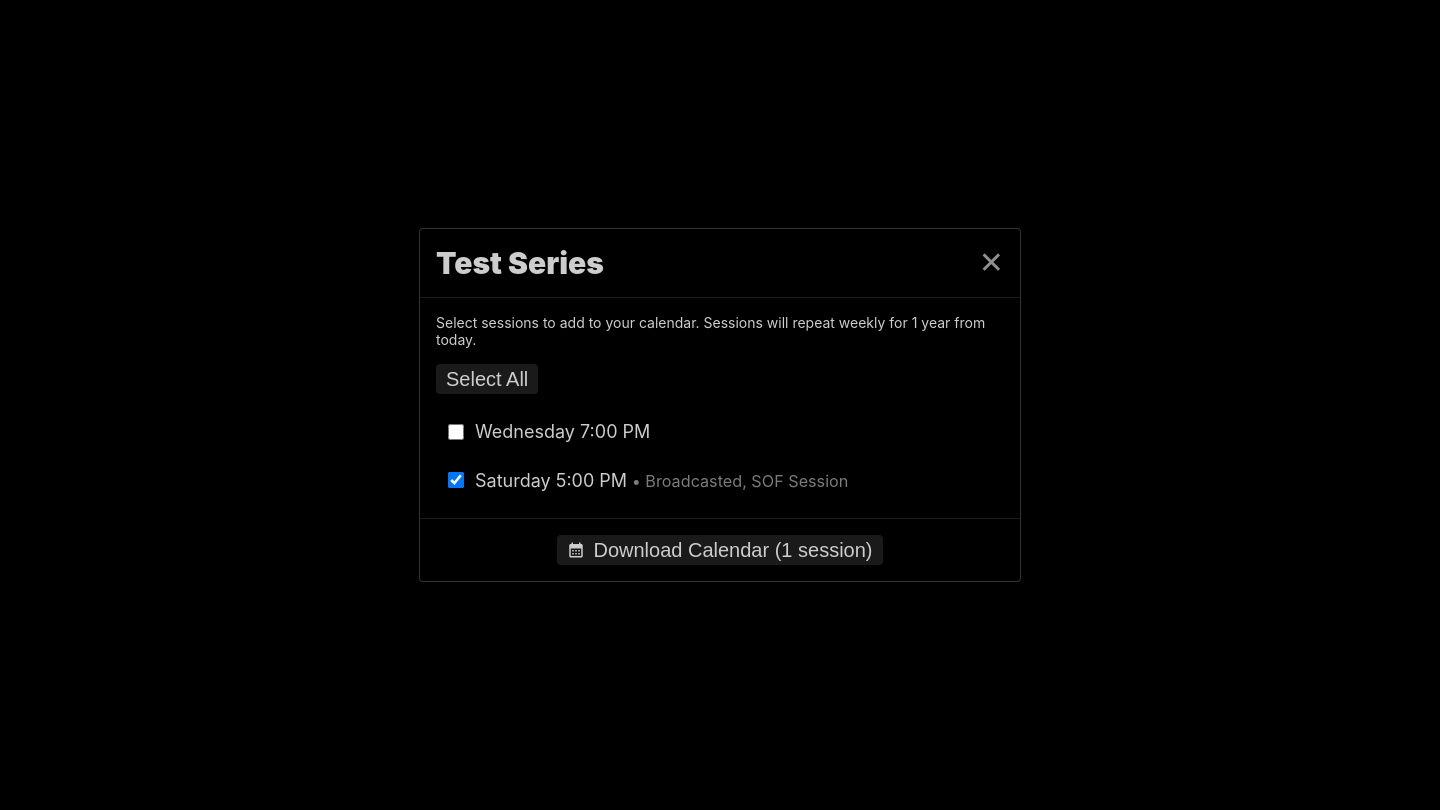
Test: CalendarModal interactions › Deselect All unchecks every session
Click the button "Select All". click: (487, 379)
box: [436,364,538,394]
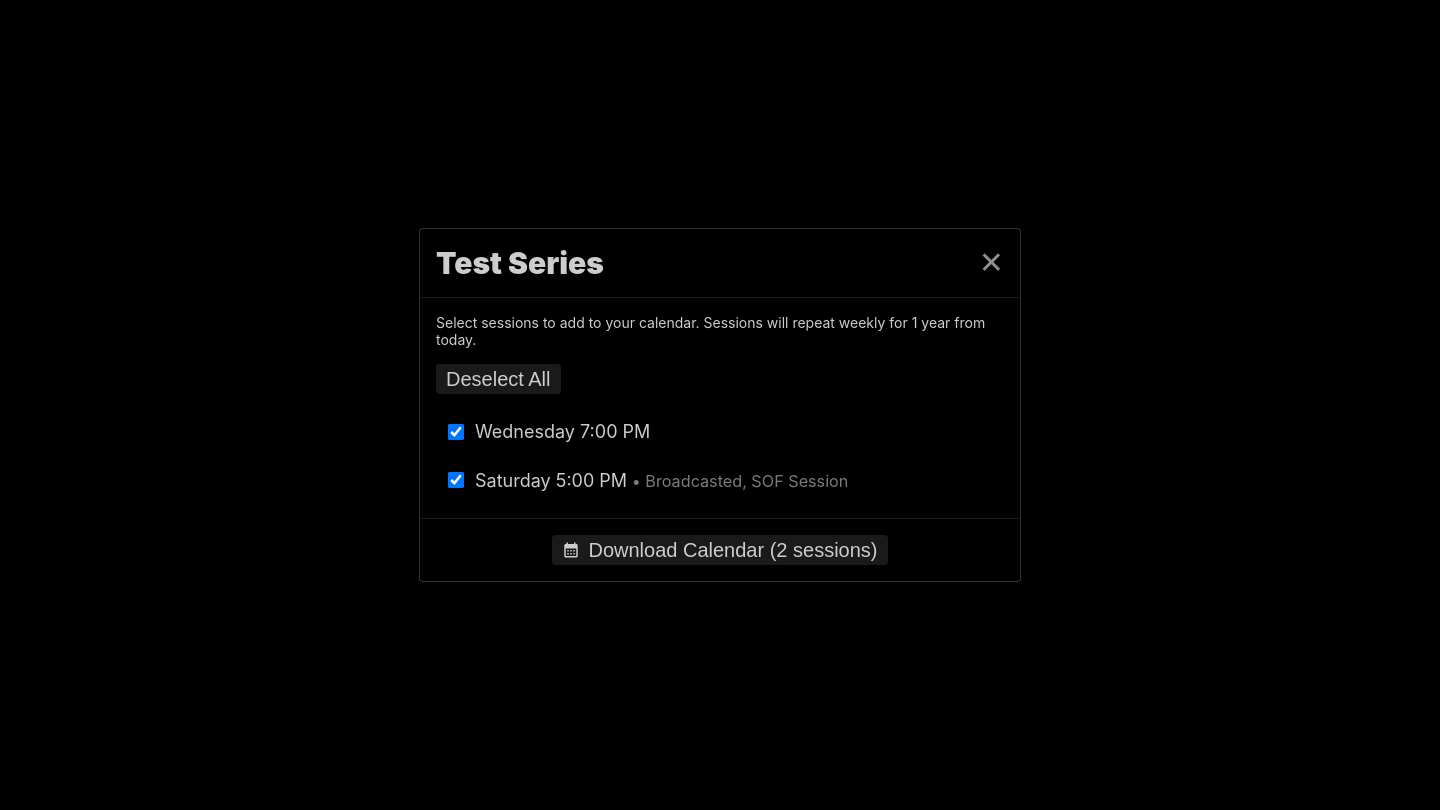
Click the button "Deselect All". click: (498, 379)
box: [436,364,560,394]
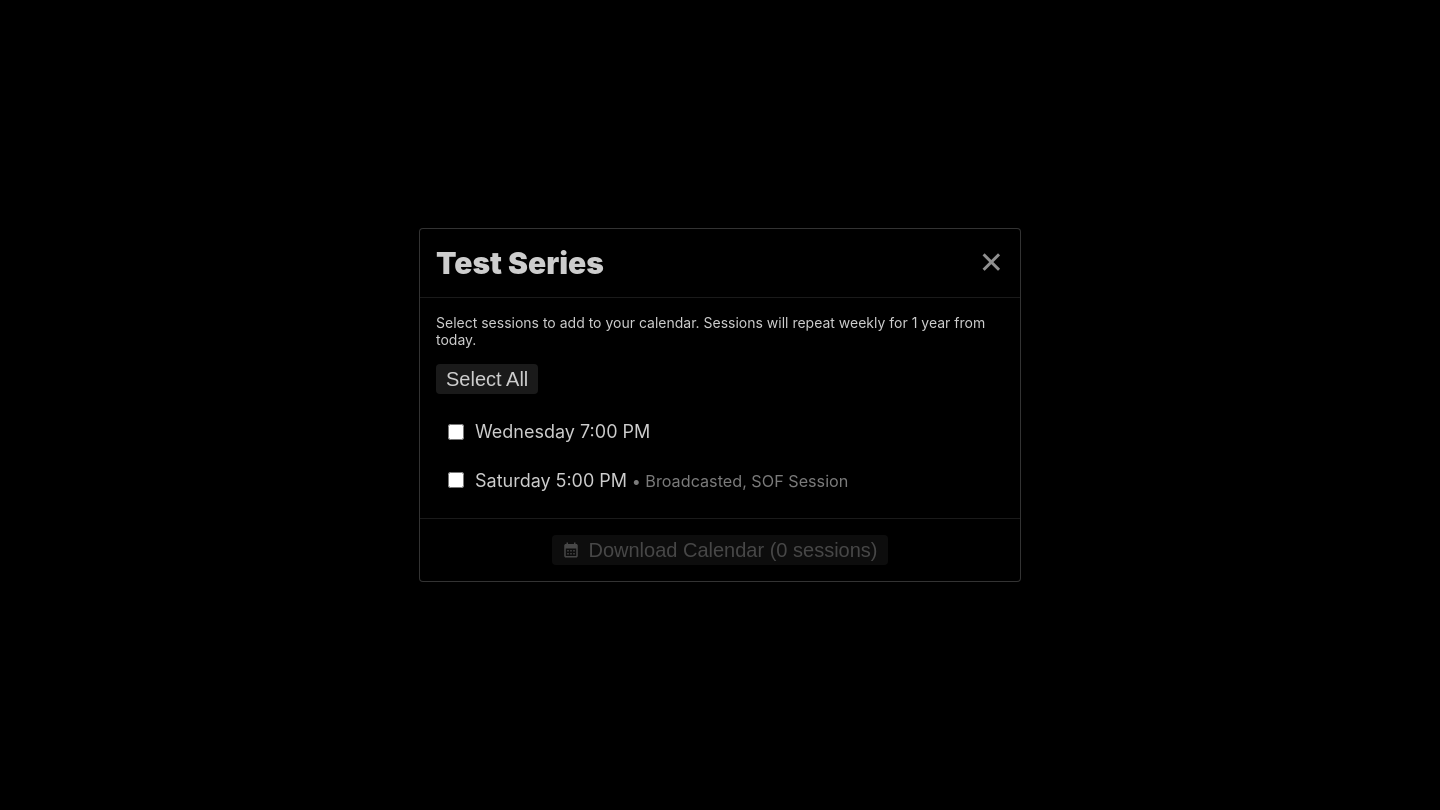
expect the checkbox labelled "Wednesday 7:00 PM" is not checked: met, box [448,424,464,440]
expect the checkbox labelled "Saturday 5:00 PM • Broadcasted, SOF Session" is not checked: met, box [448,472,464,488]
